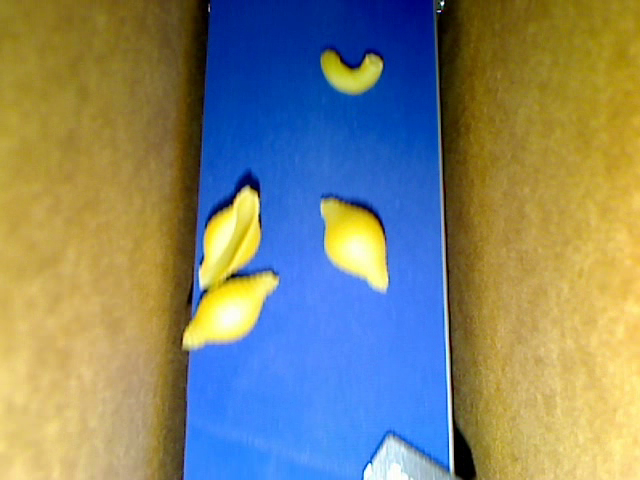elbow: (320, 49, 383, 97)
shell: (181, 267, 280, 351), (320, 196, 389, 294), (198, 186, 260, 289)
